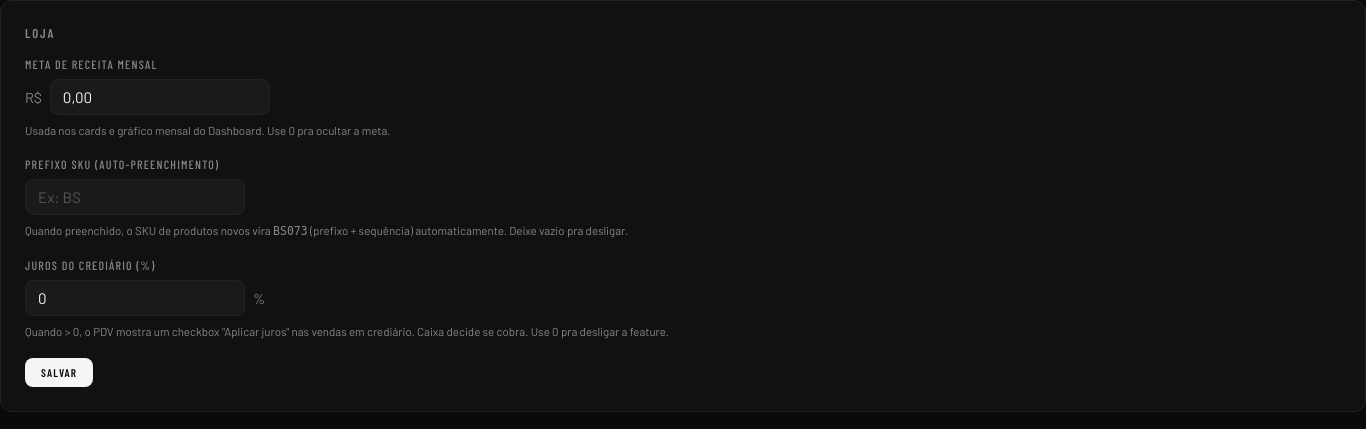
Test: StoreSettingsSection › forces skuPrefix input to uppercase alphanumeric only
This screenshot has width=1366, height=429.
Type "bs-2024!" into the field with test id "sku-prefix-input".
click(135, 197); type("bs-2024!")  # box x1=25 y1=179 x2=245 y2=215
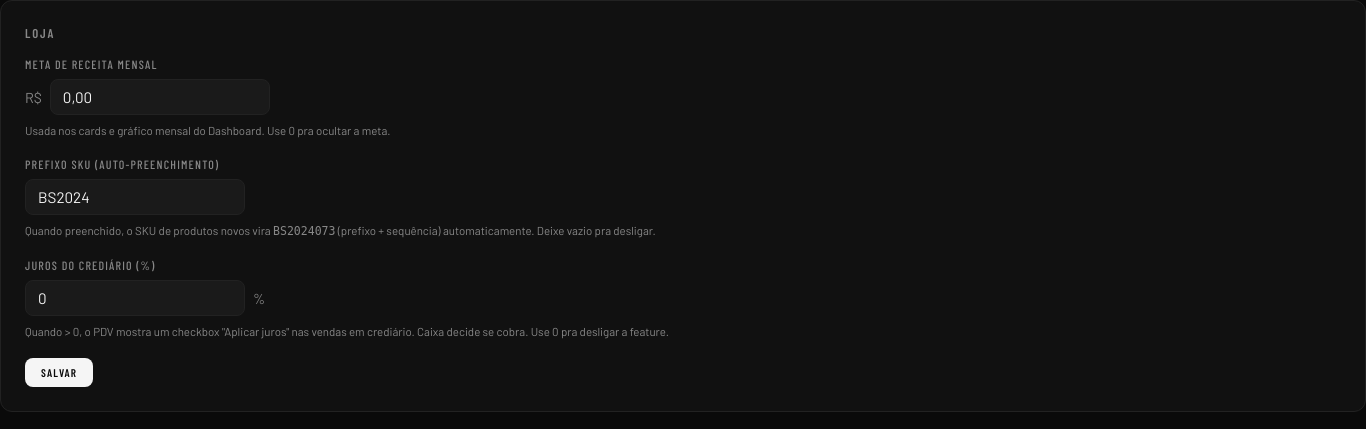
Check: the field with test id "sku-prefix-input" holds "BS2024", box x1=25 y1=179 x2=245 y2=215
